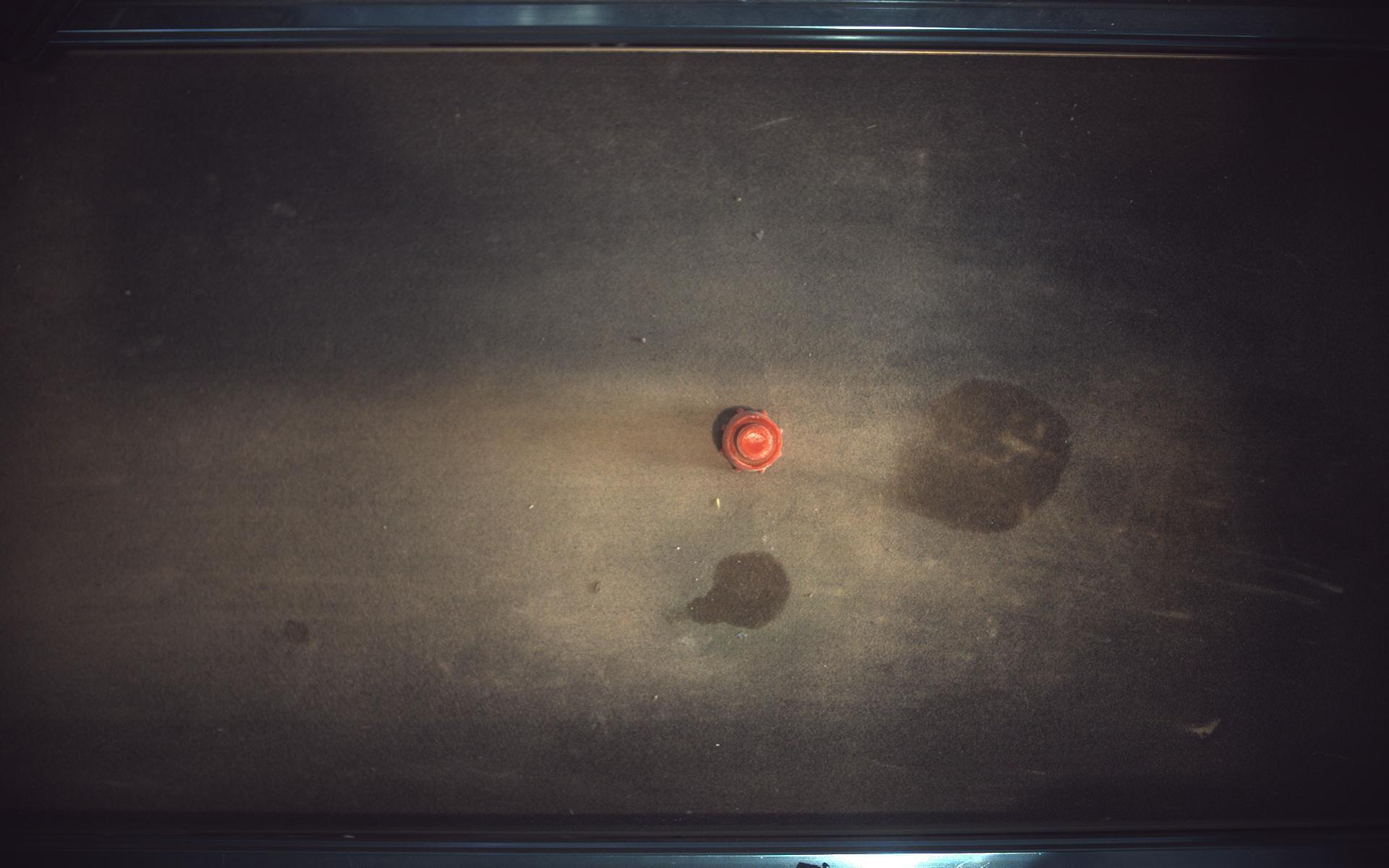general_w: (720, 408, 784, 475)
